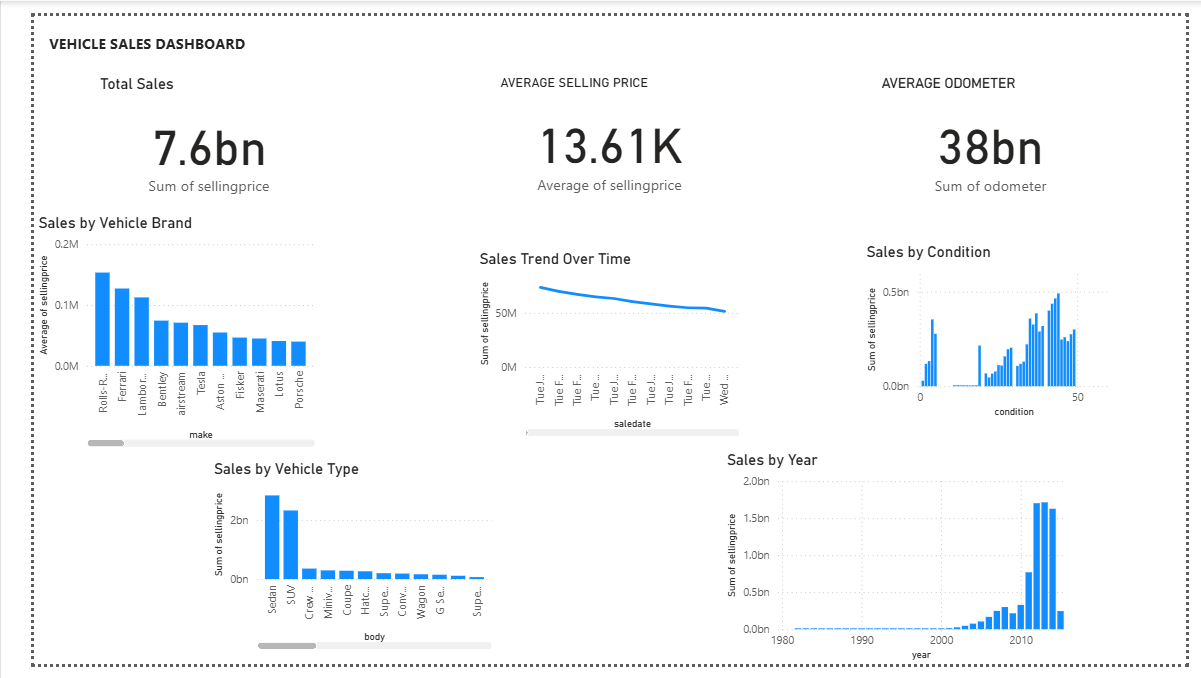

What the dashboard file says about the page in this screenshot:
{"tool":"powerbi","page":{"name":"Page 1","canvas":[1280,720],"ordinal":0},"visuals":[{"type":"textbox","box":[0,11.7,251.7,53.3],"z":0},{"type":"card","title":"Total Sales","fields":{"Values":["Sum(car_prices.sellingprice)"]},"box":[68.3,65,251.7,150],"z":1000},{"type":"card","title":"AVERAGE SELLING PRICE","fields":{"Values":["Avg(car_prices.sellingprice)"]},"box":[513.3,65,251.7,150],"z":2000},{"type":"card","title":"AVERAGE ODOMETER","fields":{"Values":["Sum(car_prices.odometer)"]},"box":[936.7,65,251.7,150],"z":3000},{"type":"clusteredColumnChart","title":"Sales by Vehicle Brand","fields":{"Category":["car_prices.make"],"Y":["Avg(car_prices.sellingprice)"]},"box":[0,220,316.7,263.3],"z":4000},{"type":"lineChart","title":"Sales Trend Over Time","fields":{"Y":["Sum(car_prices.sellingprice)"],"Category":["car_prices.saledate"]},"box":[490,260,298.3,211.7],"z":6000},{"type":"clusteredColumnChart","title":"Sales by Condition","fields":{"Category":["car_prices.condition"],"Y":["Sum(car_prices.sellingprice)"]},"box":[920,251.7,286.7,198.3],"z":7000},{"type":"clusteredColumnChart","title":"Sales by Vehicle Type","fields":{"Category":["car_prices.body"],"Y":["Sum(car_prices.sellingprice)"]},"box":[195,493.3,318.3,215],"z":8000},{"type":"clusteredColumnChart","title":"Sales by Year","fields":{"Category":["car_prices.year"],"Y":["Sum(car_prices.sellingprice)"]},"box":[765,483.3,395,236.7],"z":9000}]}

Visuals, with their boxes in screenshot pixels (x1, y1, x2, y2), scaled from the page's 1280x720 canvas onto the 1201x678 screenshot:
textbox: l=0, t=11, r=236, b=61
"Total Sales" card: l=64, t=61, r=300, b=202
"AVERAGE SELLING PRICE" card: l=482, t=61, r=718, b=202
"AVERAGE ODOMETER" card: l=879, t=61, r=1115, b=202
"Sales by Vehicle Brand" clusteredColumnChart: l=0, t=207, r=297, b=455
"Sales Trend Over Time" lineChart: l=460, t=245, r=740, b=444
"Sales by Condition" clusteredColumnChart: l=863, t=237, r=1132, b=424
"Sales by Vehicle Type" clusteredColumnChart: l=183, t=465, r=482, b=667
"Sales by Year" clusteredColumnChart: l=718, t=455, r=1088, b=677
